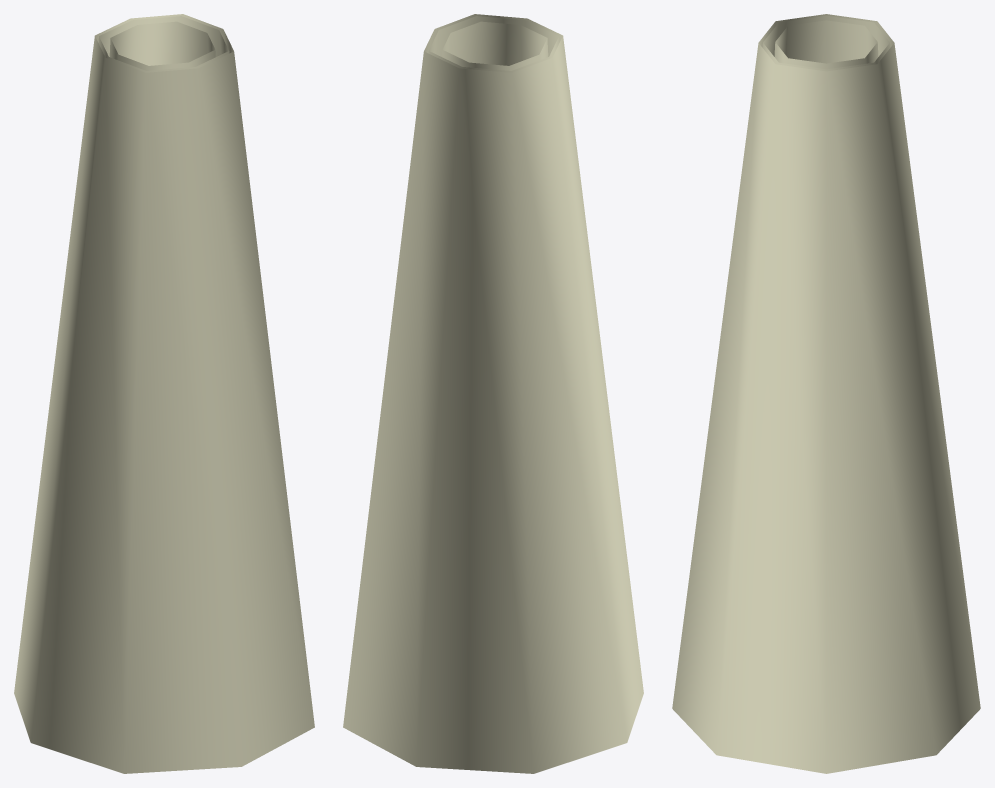
The model's file is ld_lightshaft01.obj.
3 renders of one model, left to right at view 1: azimuth 30°, elevation 25°; view 2: azimuth 150°, elevation 25°; view 3: azimuth 270°, elevation 25°, orthographic.
Visible parts, largest first — view 1: LD_LIGHTSHAFT011, LD_LIGHTSHAFT010; view 2: LD_LIGHTSHAFT011, LD_LIGHTSHAFT010; view 3: LD_LIGHTSHAFT011, LD_LIGHTSHAFT010.
Boxes of the visible parts, x1=… form: LD_LIGHTSHAFT011: x1=14, y1=14, x2=314, y2=773; LD_LIGHTSHAFT010: x1=98, y1=16, x2=229, y2=72; LD_LIGHTSHAFT011: x1=343, y1=14, x2=643, y2=773; LD_LIGHTSHAFT010: x1=428, y1=16, x2=559, y2=72; LD_LIGHTSHAFT011: x1=672, y1=14, x2=980, y2=773; LD_LIGHTSHAFT010: x1=762, y1=15, x2=890, y2=71.
Bounding box in the file's own units: 15.46 × 36.84 × 15.47.
Materials: 1 (1 with a texture image).
